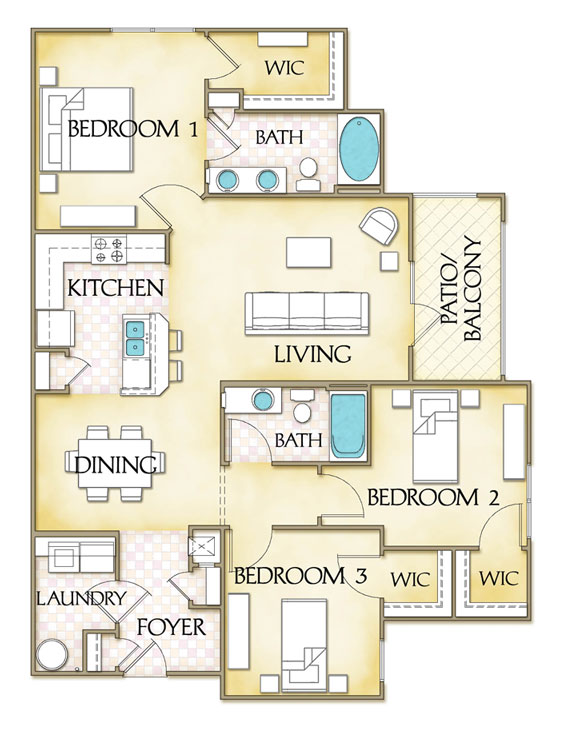balcony: (404, 190, 508, 388)
door: (137, 176, 193, 221), (333, 547, 372, 605), (325, 471, 366, 522), (227, 534, 275, 574), (227, 416, 271, 459), (470, 502, 524, 537), (130, 638, 182, 666), (211, 34, 241, 81), (157, 552, 187, 599), (69, 349, 99, 396), (411, 295, 441, 342), (122, 575, 152, 622)
room: (25, 227, 230, 531), (204, 191, 416, 388), (28, 23, 211, 234), (26, 20, 209, 231), (362, 375, 539, 554), (217, 521, 387, 707), (200, 107, 384, 200), (216, 375, 375, 472), (27, 531, 122, 679), (202, 24, 351, 115), (449, 543, 533, 621), (375, 545, 458, 622), (184, 560, 227, 613)
